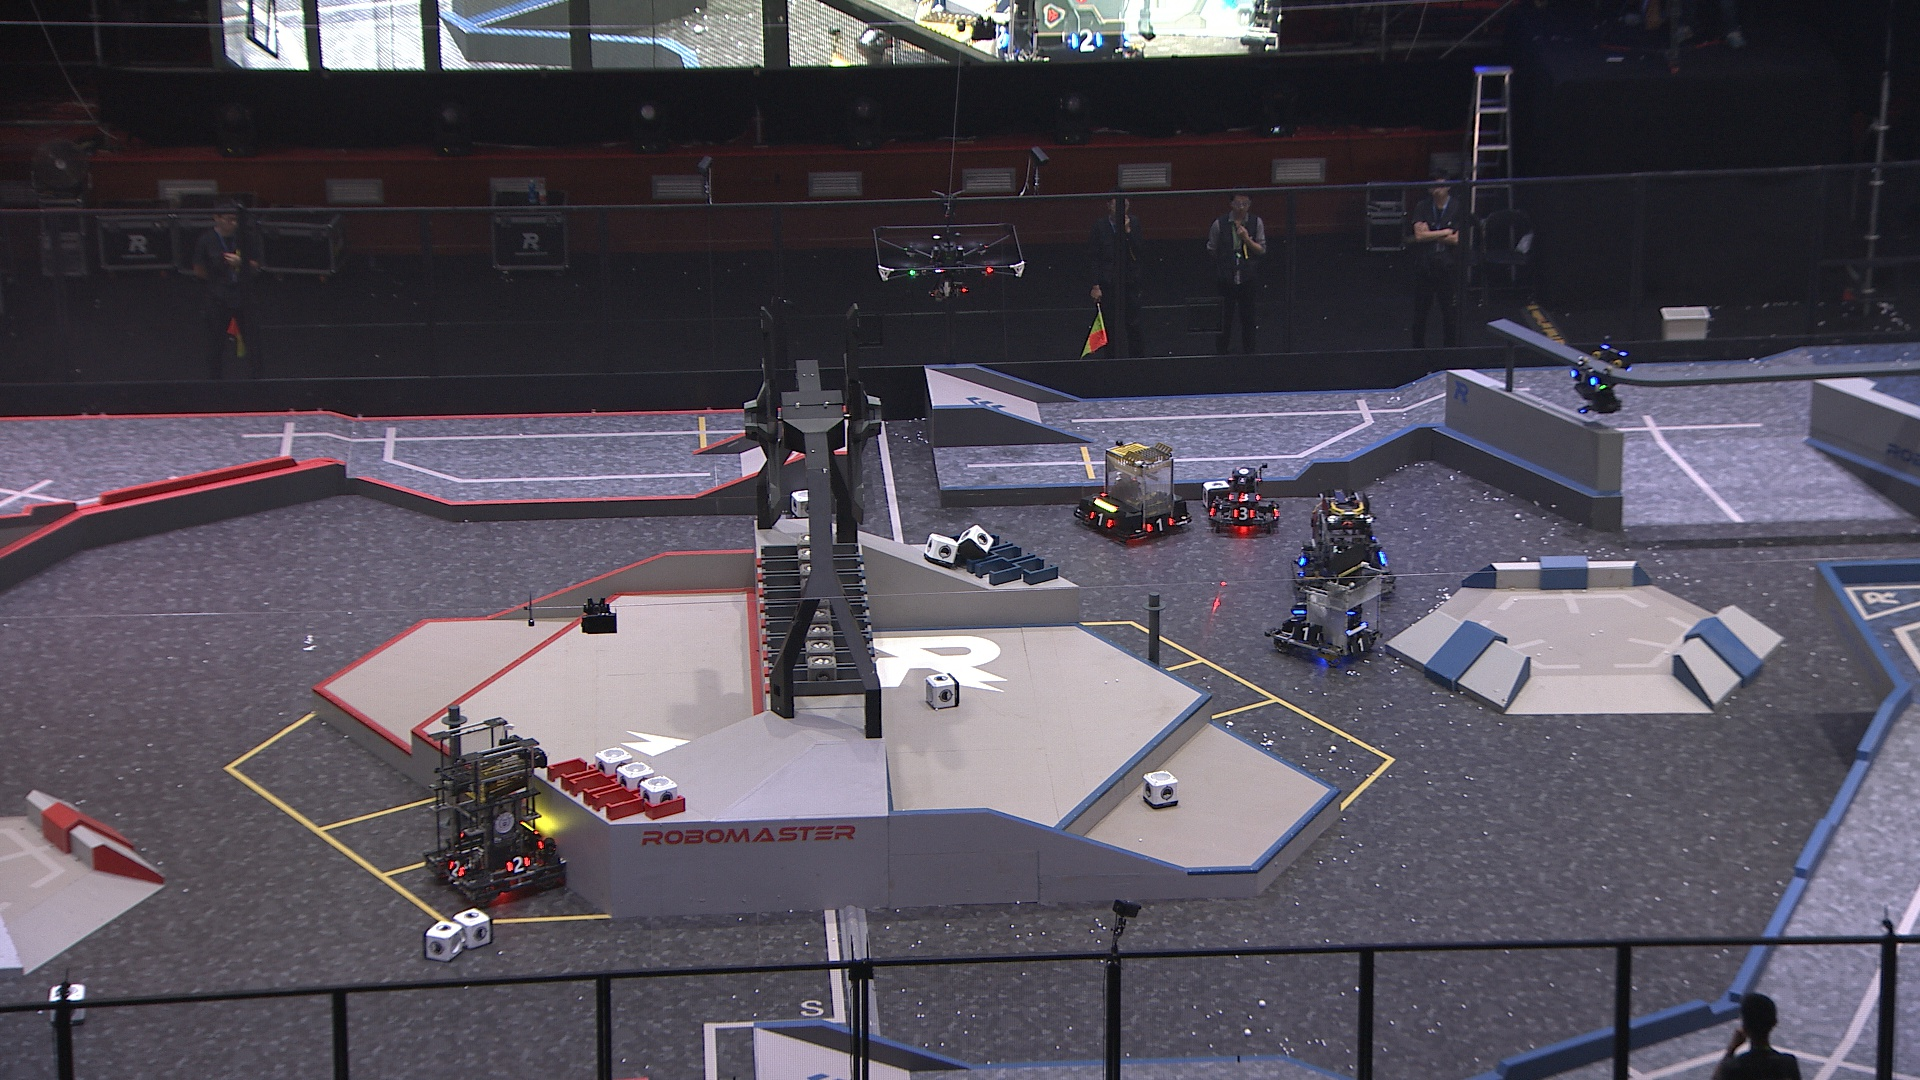armor: (1288, 622, 1321, 642), (1569, 367, 1598, 386), (505, 855, 533, 874), (1145, 516, 1176, 533), (1226, 488, 1259, 502), (1349, 636, 1371, 655), (1087, 510, 1112, 527), (446, 860, 467, 878), (1232, 505, 1257, 520), (1287, 609, 1305, 626), (1269, 501, 1282, 524)
car: (425, 717, 567, 906), (1266, 559, 1385, 671), (1069, 439, 1192, 538), (1294, 487, 1396, 593), (1207, 465, 1287, 535)
watcher: (1563, 344, 1634, 417)
